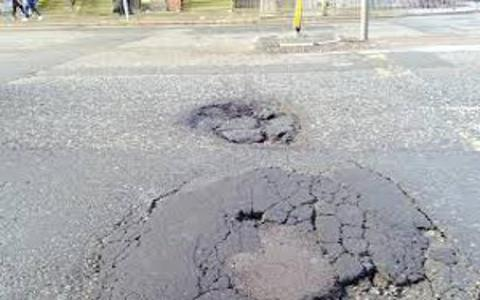patchy roads: (152, 99, 377, 248)
